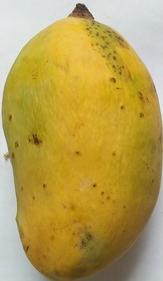Ripe: (0, 1, 163, 281)
